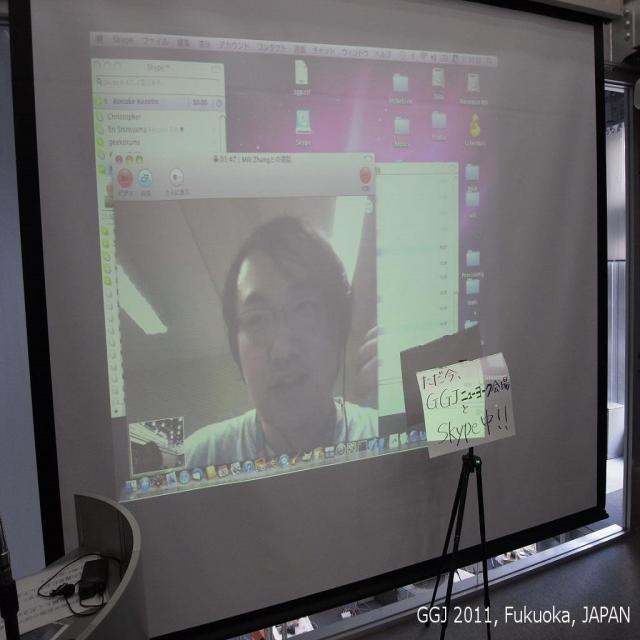others: (10, 2, 623, 579)
